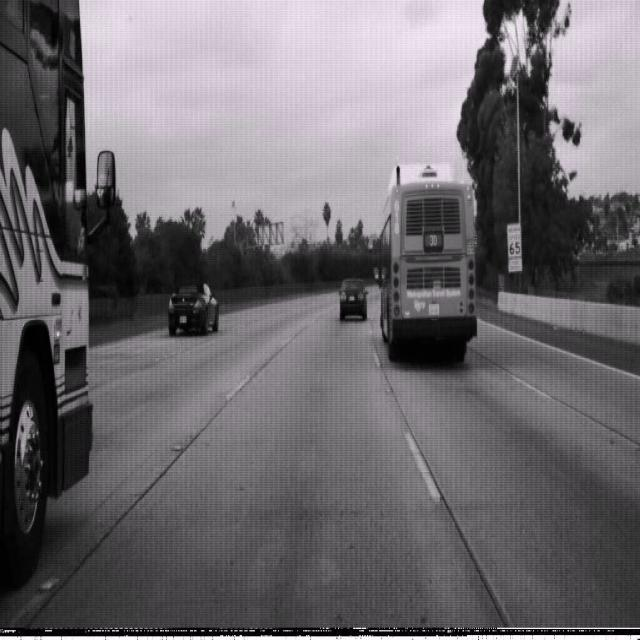speedLimit65: (506, 222, 522, 259)
